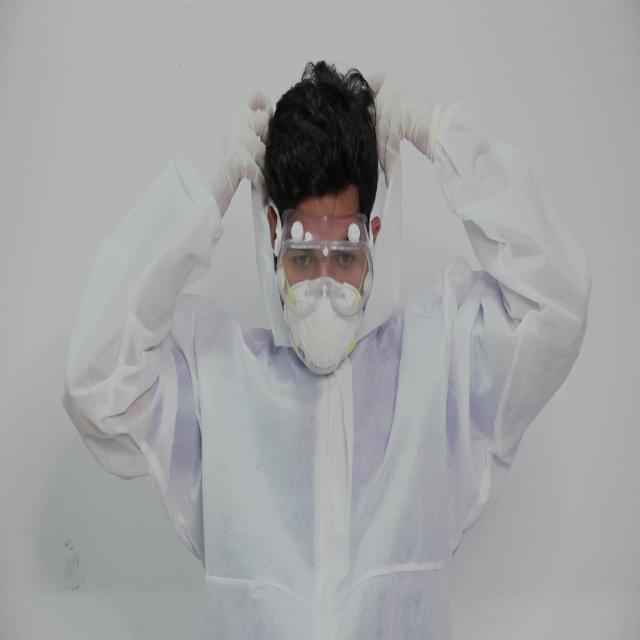Gloves: (367, 64, 438, 188), (206, 87, 268, 221)
Goggles: (274, 210, 376, 318)
